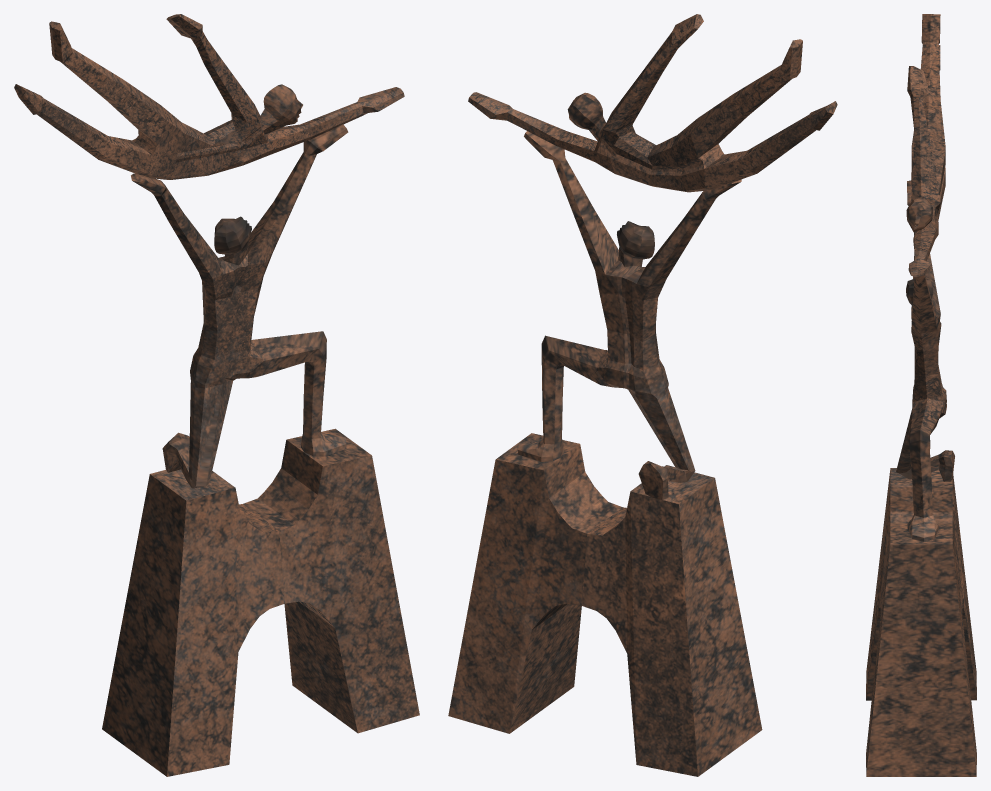
File: Prometeo1.fbx
3 views of the same model, side by side, from view 1: azimuth 30°, elevation 25°; view 2: azimuth 150°, elevation 25°; view 3: azimuth 270°, elevation 25° (orthographic). The views are drawn at different scales.
Parts seen in each view (by area): view 1: Cube, Cube.002; view 2: Cube, Cube.002; view 3: Cube, Cube.002.
Boxes of the visible parts, <box> form: Cube: <box>102,124,419,776</box>; Cube.002: <box>14,14,404,179</box>; Cube: <box>448,131,762,776</box>; Cube.002: <box>468,14,837,192</box>; Cube: <box>866,180,976,776</box>; Cube.002: <box>906,14,945,277</box>.
Bounding box in the file's own units: 857 × 1628 × 259.
Materials: 1 (1 with a texture image).
